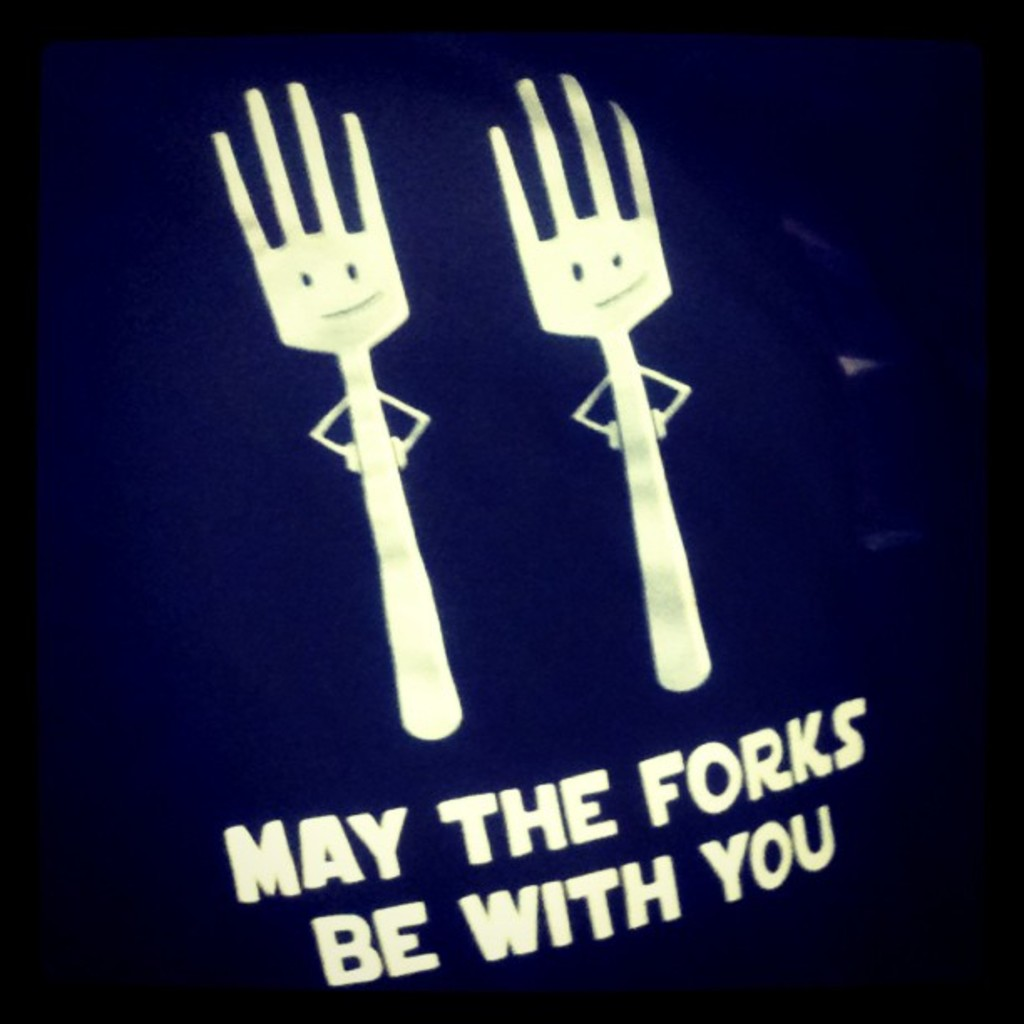fork: (210, 83, 463, 739), (482, 70, 716, 694)
